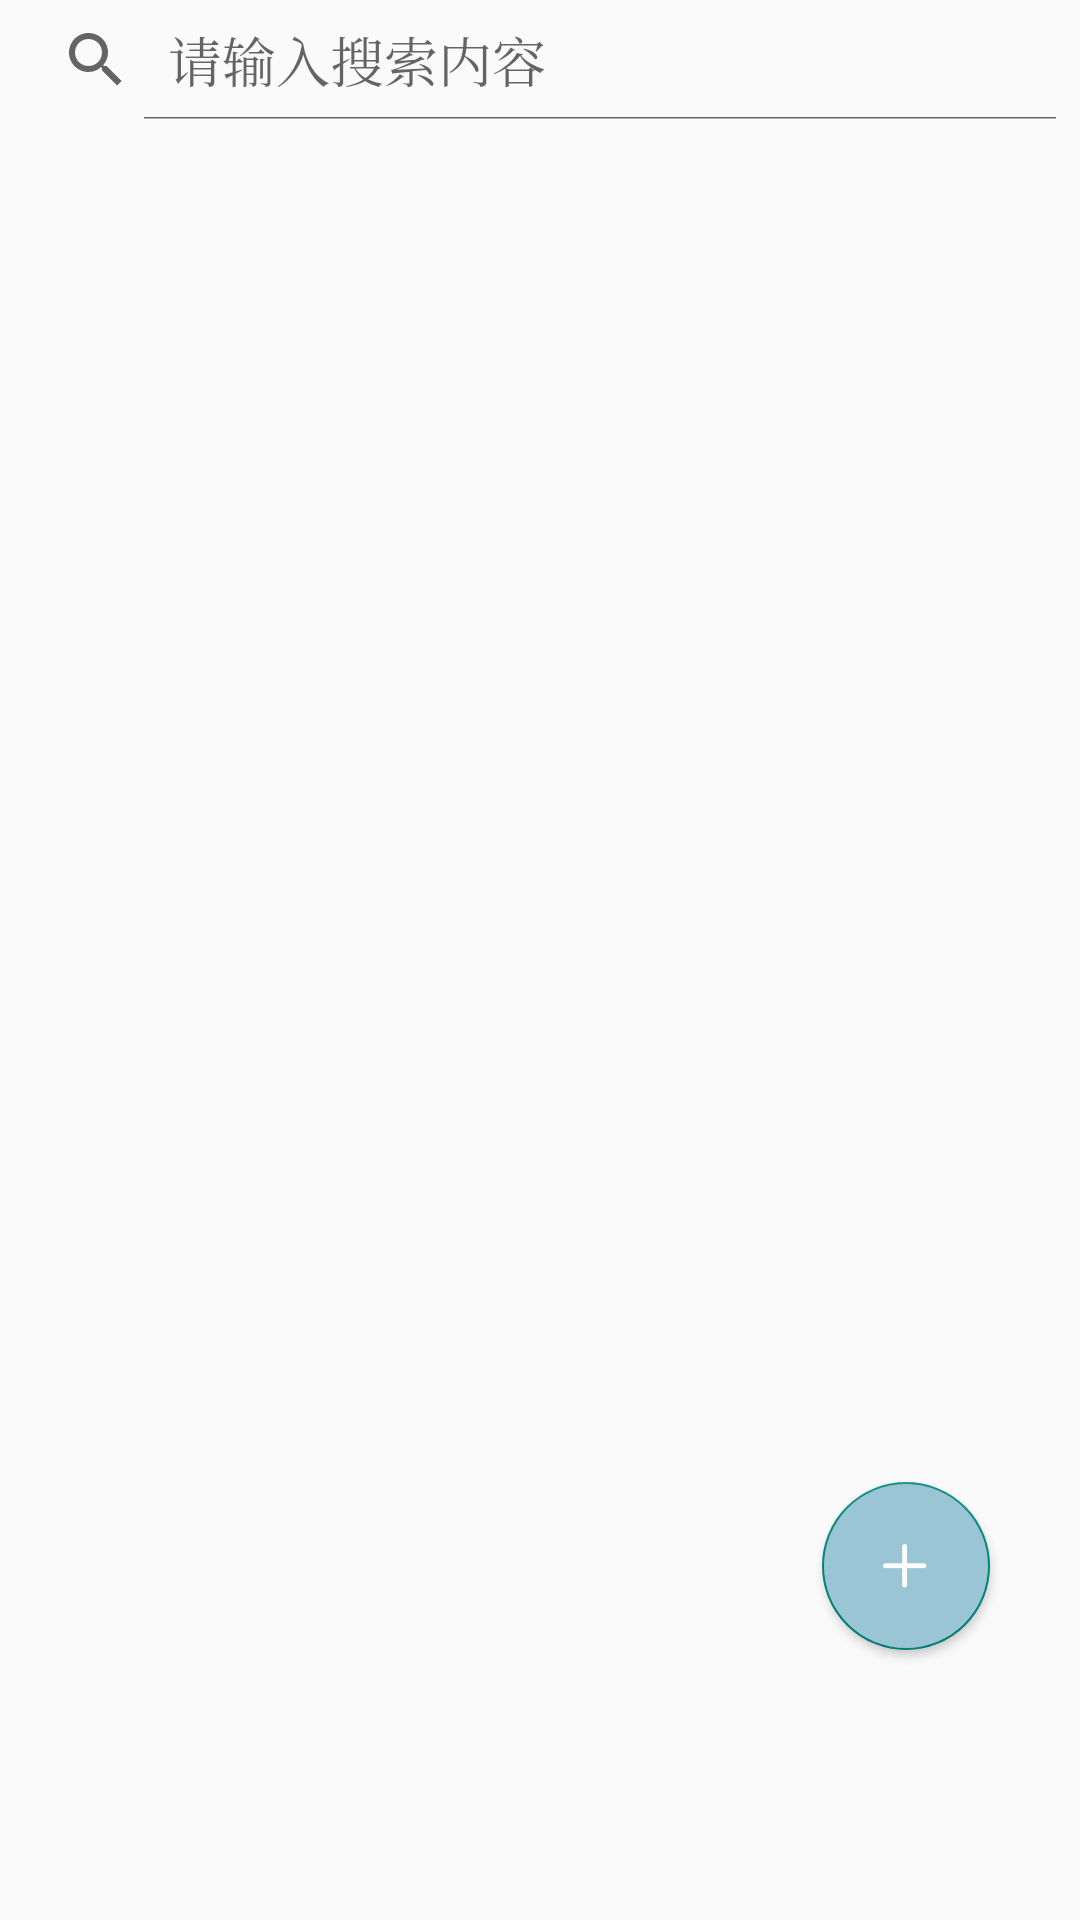

Named icons in this screenshot (1080 x 1920) and their bounding boxes, box=[x1, y1, x2, y2]:
addbtn: box=[822, 1482, 990, 1650]
